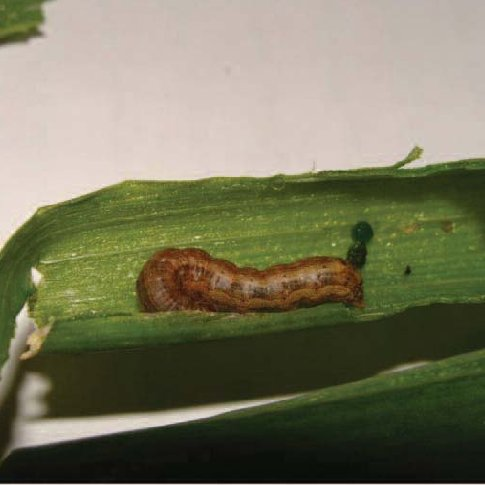Armyworm: (119, 237, 367, 312)
